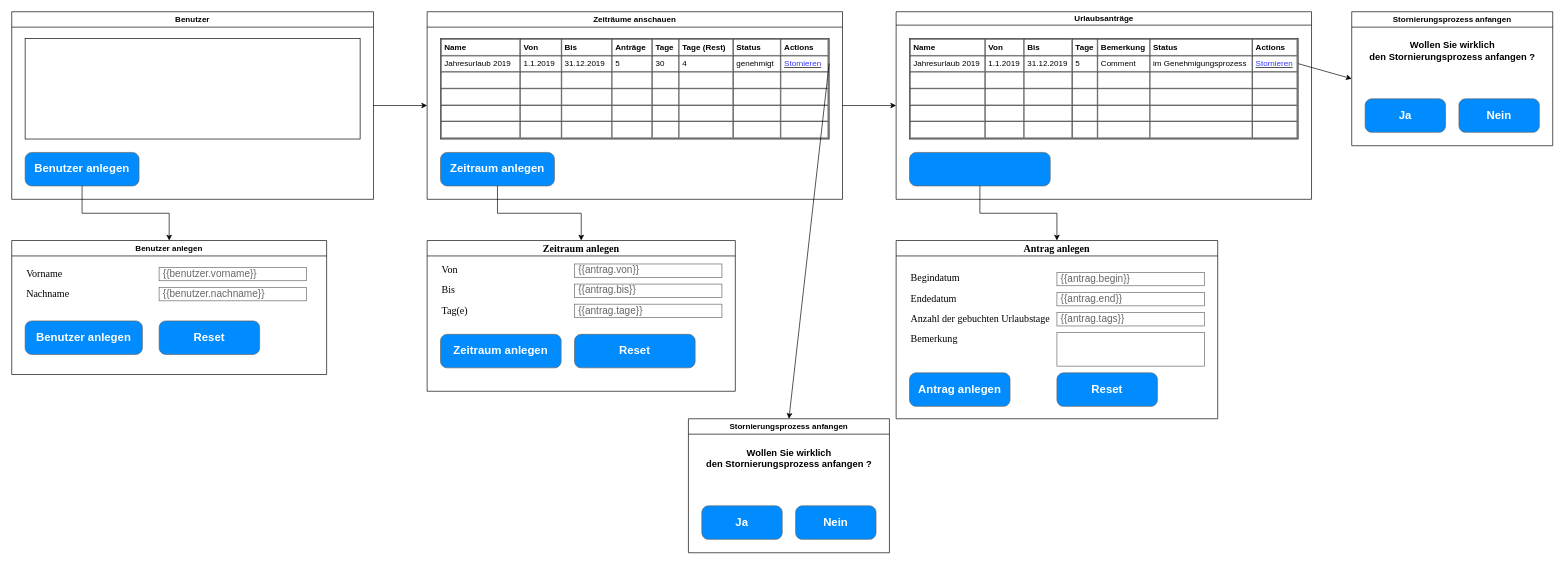
The diagram is 1564 pixels wide and 565 high, and some of its shapes have lost their labels. Here are the shapes that lost their labels. From the top down, the centre of each, then its label:
(192,88): Vorname Nachname Action Steffan Schulz Deaktivieren John Smith Deaktivieren
(979,169): Urlaubsantrag anlegen
(1130,349): {{antrag.bemerkung}}
